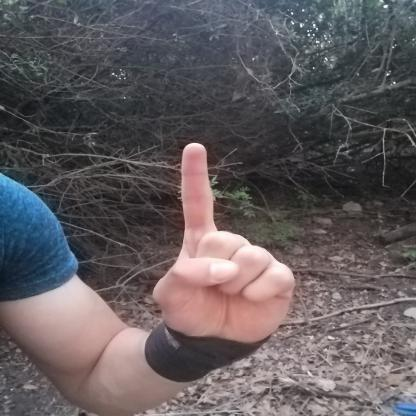BAA: (139, 126, 315, 357)
